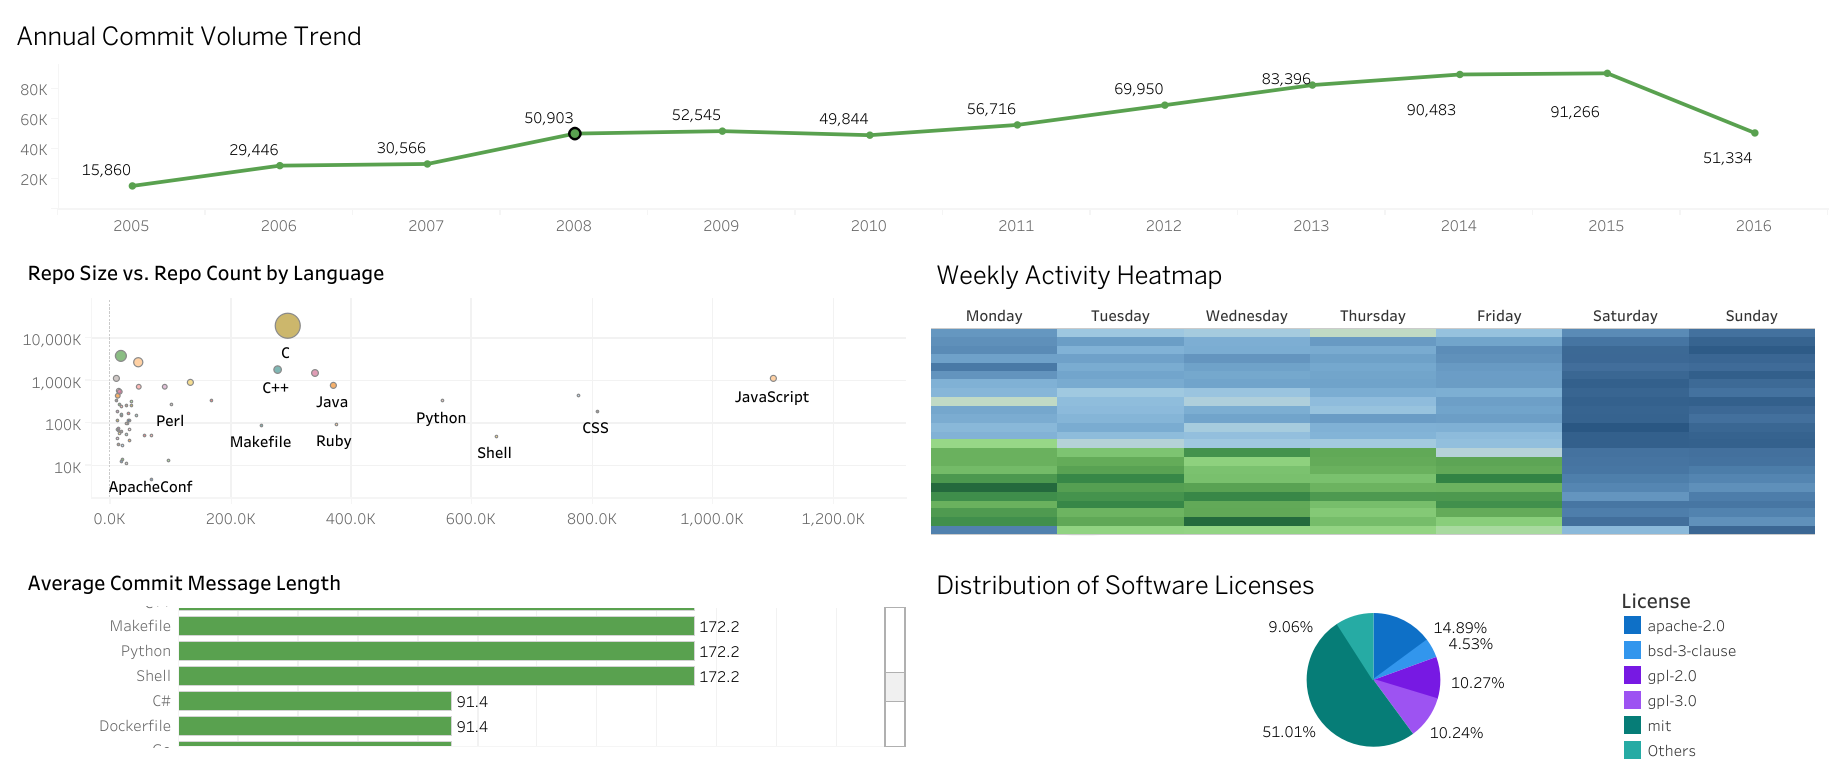

What the dashboard file says about the page in this screenshot:
{"tool":"tableau","page":{"name":"Dashboard 1","canvas":[1000,1000],"units":"permille","ordinal":0},"visuals":[{"type":"worksheet","title":"Sheet 2","mark":"Line","rows":["commits_count"],"cols":["commit_year"],"box":[4.8,10,990.4,298]},{"type":"worksheet","title":"Sheet 1","mark":"Circle","rows":["average_size_of_repo"],"cols":["repositories_count"],"box":[4.8,307.9,495.2,406.2]},{"type":"worksheet","title":"Sheet 3","mark":"Square","rows":["hour"],"cols":["day_of_week"],"box":[500,307.9,495.2,406.2]},{"type":"worksheet","title":"Sheet 4","mark":"Automatic","rows":["programming_language"],"cols":["average_commit_length"],"box":[4.8,714.1,495.2,275.9]},{"type":"worksheet","title":"Sheet 5","mark":"Pie","box":[500,714.1,495.2,275.9]},{"type":"legend","title":"Sheet 5","param":"[federated.1p0p0qg0lag8vl147nlm11x8nam1].[license (group)]","box":[878.4,751.6,96.3,203.5]}]}

Visuals, with their boxes on the dashboard's canvas, which has no fixed pixel size, in thousandths of its width and height (x1, y1, x2, y2). These are canvas units, not pixel positions in the 1838x768 screenshot, which may show the page scaled, cropped or inside an application window:
"Sheet 2" worksheet (Line marks): box=[5, 10, 995, 308]
"Sheet 1" worksheet (Circle marks): box=[5, 308, 500, 714]
"Sheet 3" worksheet (Square marks): box=[500, 308, 995, 714]
"Sheet 4" worksheet: box=[5, 714, 500, 990]
"Sheet 5" worksheet (Pie marks): box=[500, 714, 995, 990]
"Sheet 5" legend: box=[878, 752, 975, 955]
